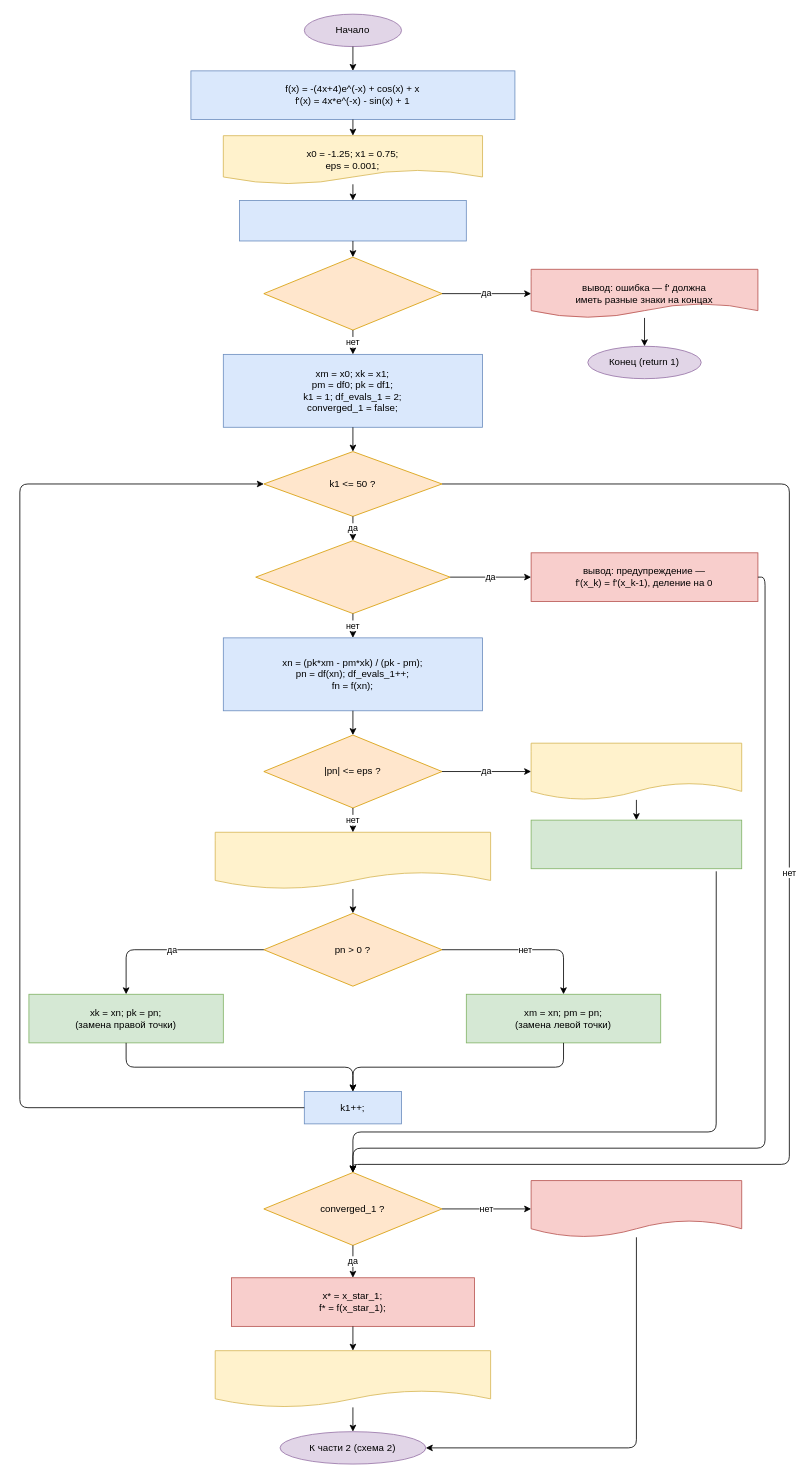
Some shapes in this 810 by 1478 pixel diagram are drawn without their labels. Each missing label, with the centre of its shape:
"df0 * df1 >= 0 ?" belongs at pixel 352 293.
"df0 = df(x0); df1 = df(x1);" belongs at pixel 352 220.
"x_star_1 = xn; converged_1 = true;" belongs at pixel 636 844.
"|pk - pm| < 1e-12 ?" belongs at pixel 352 577.
"вывод строки таблицы: k1, xm, pm, xk, pk, xn, pn, fn, действие" belongs at pixel 352 860.
"вывод строки таблицы: СТОП (|f'| <= eps)" belongs at pixel 636 771.
"вывод: x*, f*, n = k1, N_f' = df_evals_1 (= n + 2)" belongs at pixel 352 1378.
"вывод: метод не сошёлся, x* не найден; k1-1, df_evals_1" belongs at pixel 636 1208.
